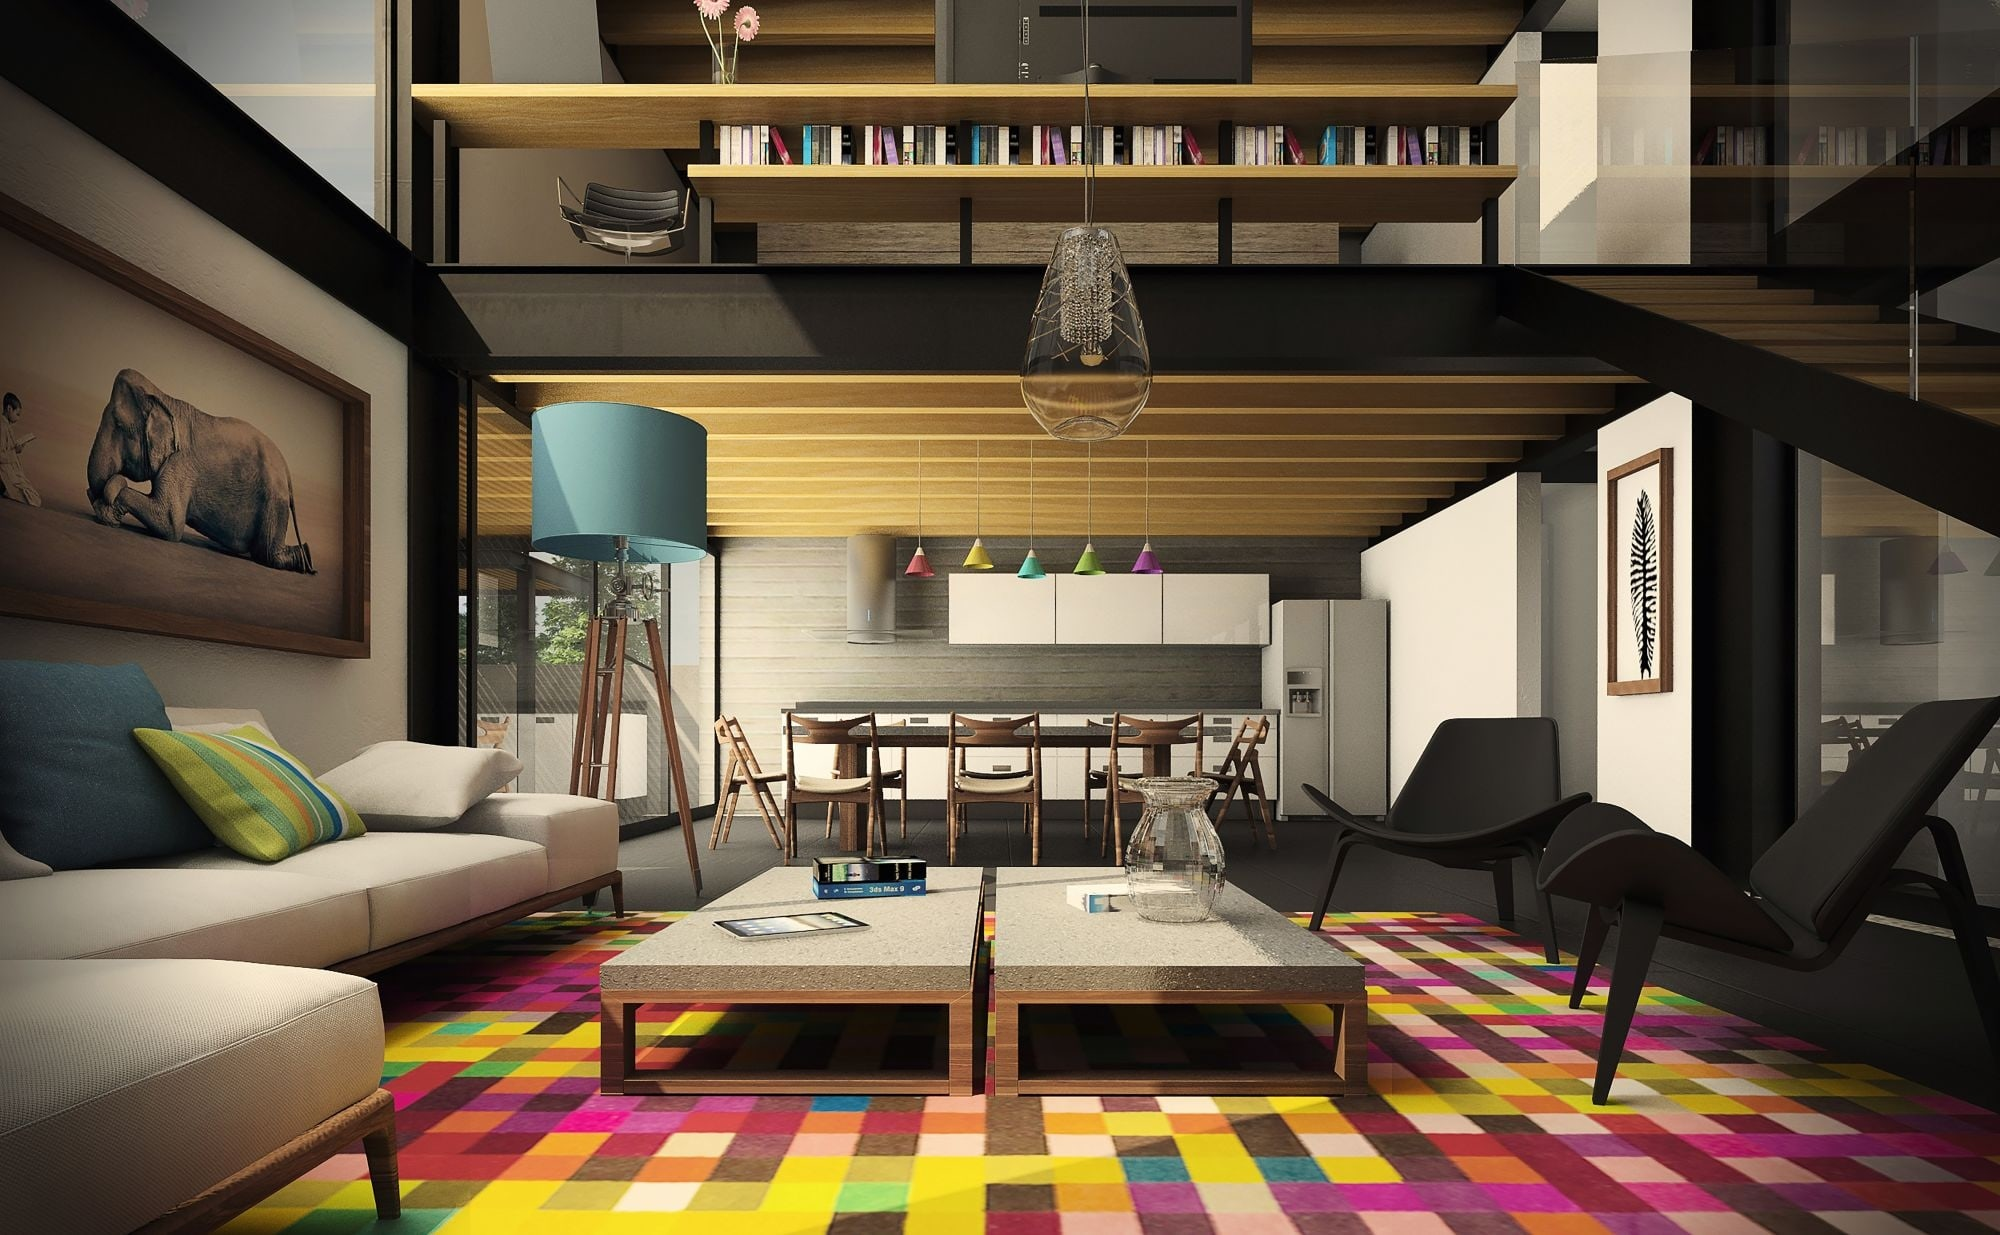biru: (521, 409, 711, 560), (1014, 559, 1049, 580)
hijau: (1071, 552, 1107, 575)
hitam: (1554, 735, 2000, 1043), (1321, 716, 1561, 938)
kuning: (963, 547, 991, 572)
putih: (1, 800, 621, 953), (1, 953, 376, 1122), (339, 742, 506, 813)
ungu: (1131, 553, 1166, 576)
